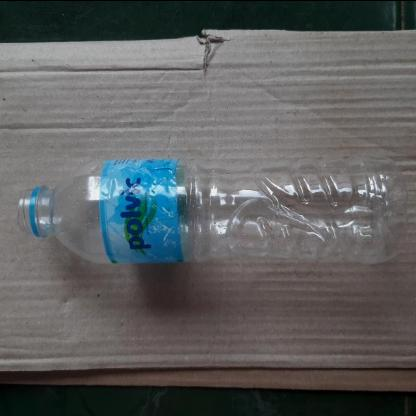Plastic Bottle: (20, 158, 406, 265)
